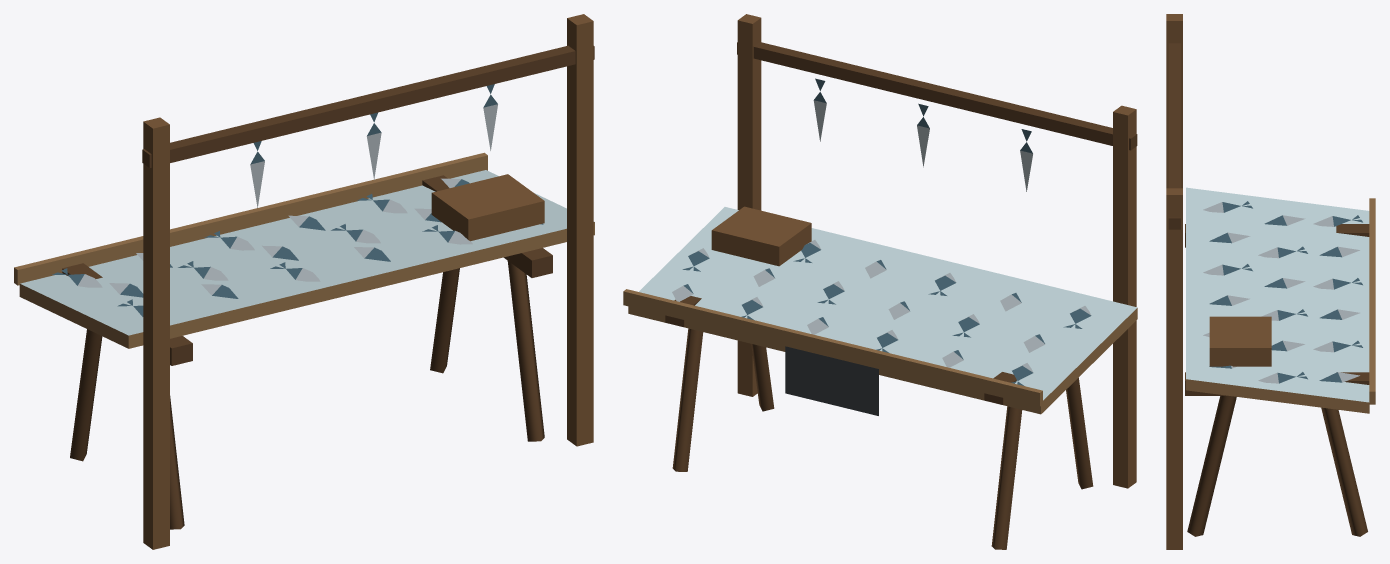
File: fish_stall.glb
The picture shows the model from 3 angles, left to right: view 1: azimuth 30°, elevation 25°; view 2: azimuth 150°, elevation 25°; view 3: azimuth 270°, elevation 25°; orthographic projection. The views are drawn at different scales.
Parts seen in each view (by area): view 1: Stall; view 2: Stall; view 3: Stall.
Boxes of the visible parts, x1,y1,x2,y2 form: Stall: (14,14,594,549); Stall: (623,14,1137,549); Stall: (1166,14,1375,549).
Size of the model in its own units: 2.22 by 1.91 by 1.01.
1 material, 1 textured.
